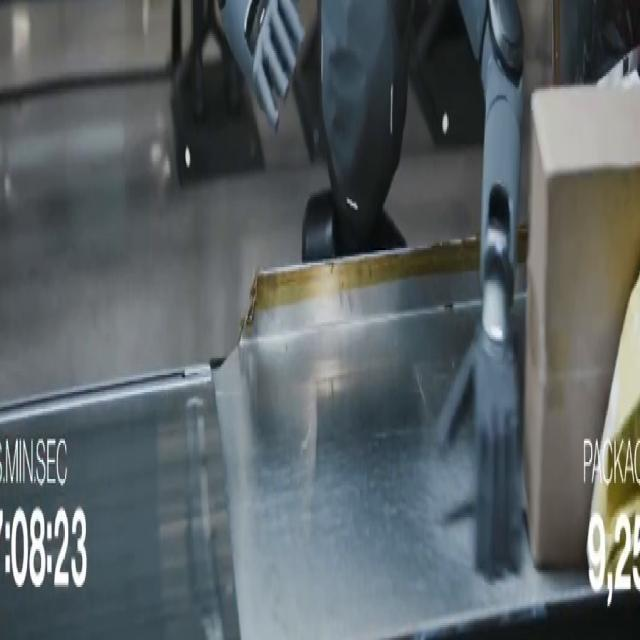package: (523, 87, 639, 567), (586, 280, 639, 576)
